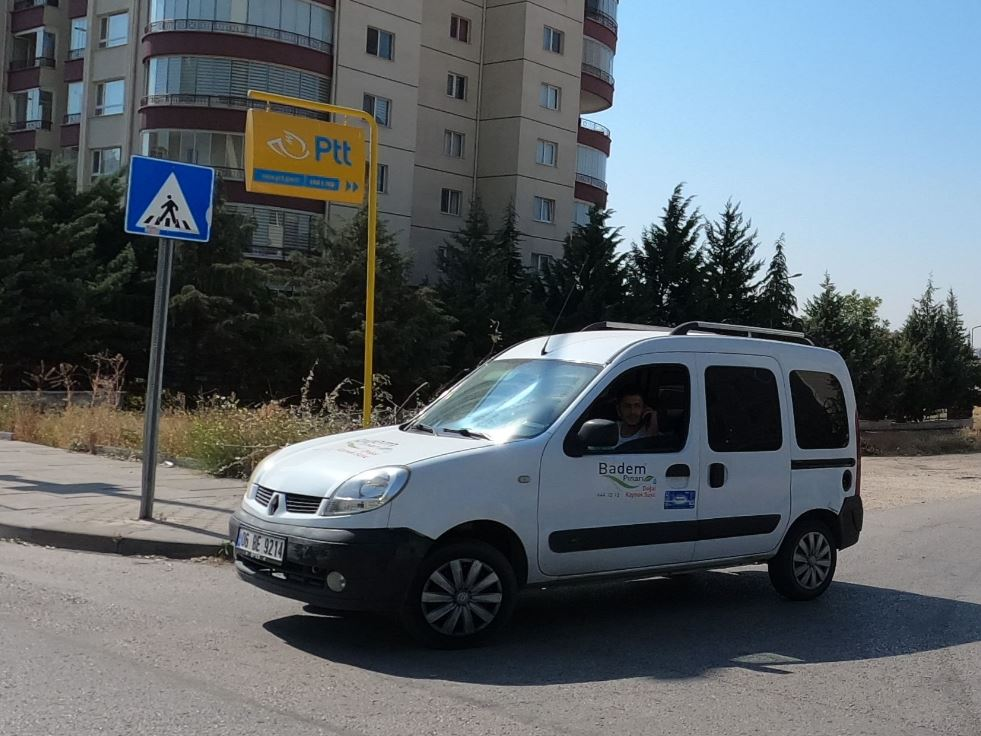Yaya Gecidi: (135, 155, 210, 237)
